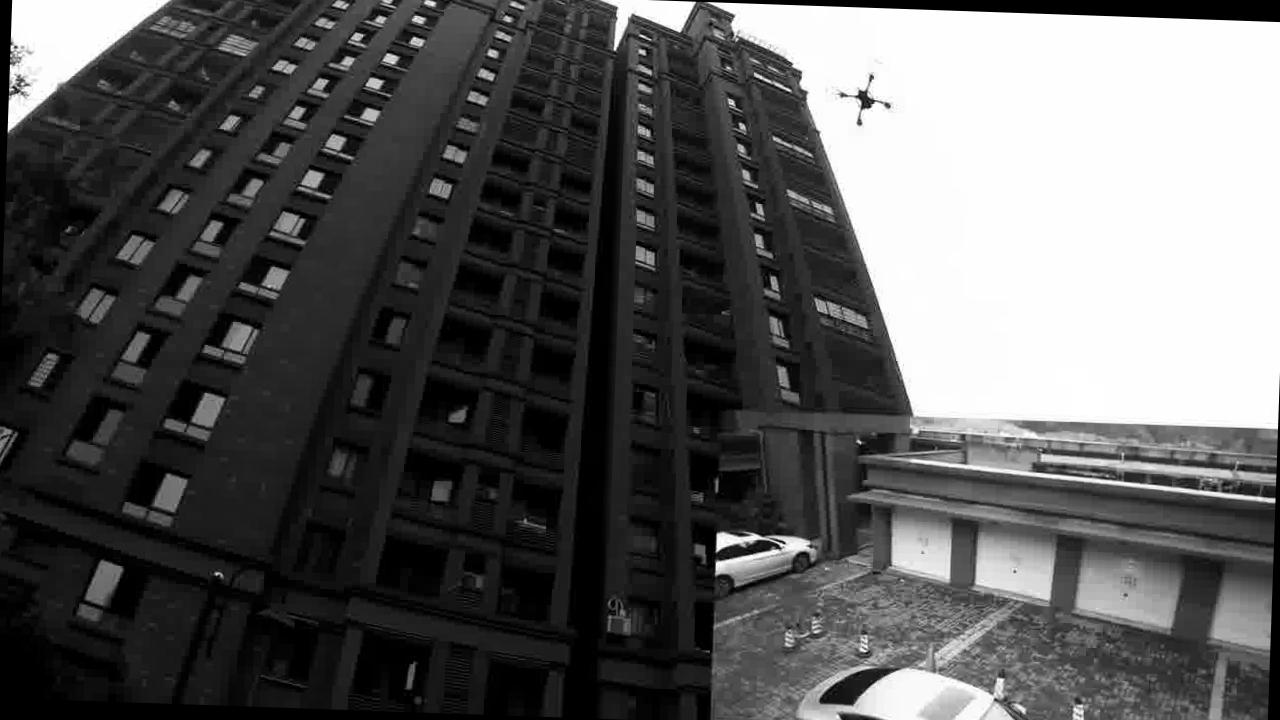drone: (828, 68, 895, 130)
